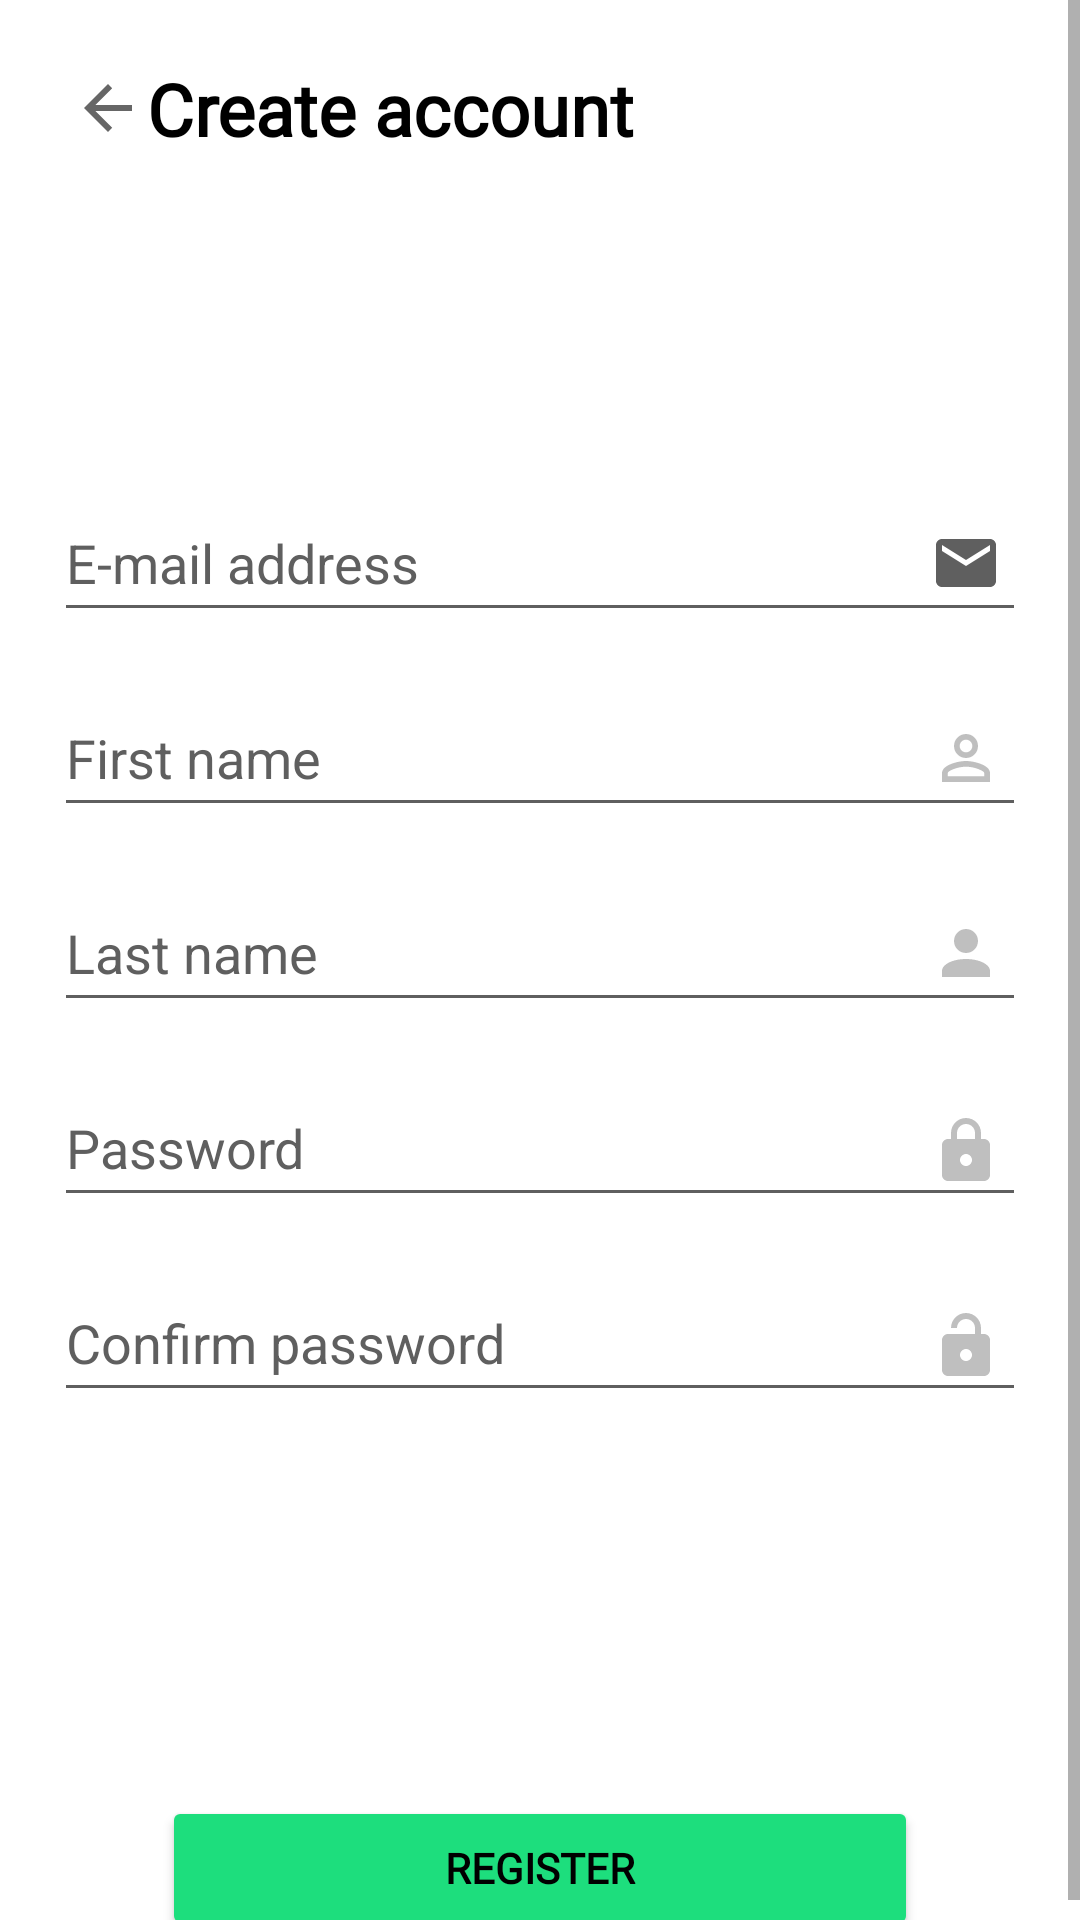

Screen size 1080px×1920px. Icon name, then its box in pixels as (x1, y1, x2, y2):
back button: (84, 84, 132, 132)
